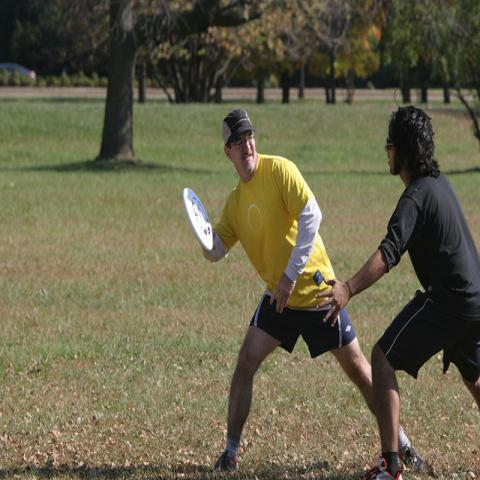car: (1, 64, 36, 80)
